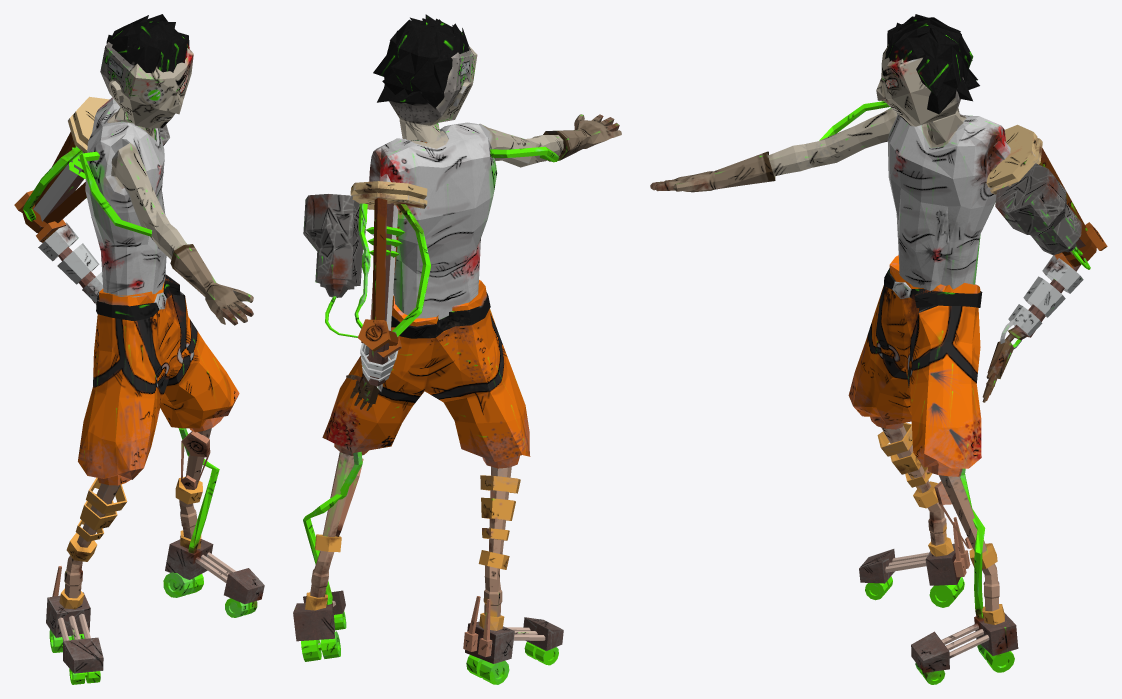
Rendered from CyborgFINALAnimation_000010.obj.
The picture shows the model from 3 angles, left to right: view 1: azimuth 30°, elevation 25°; view 2: azimuth 150°, elevation 25°; view 3: azimuth 270°, elevation 25°; orthographic projection. The views are drawn at different scales.
Parts seen in each view (by area): view 1: CyborgMesh_Cube.002; view 2: CyborgMesh_Cube.002; view 3: CyborgMesh_Cube.002.
Boxes of the visible parts, <box> form: CyborgMesh_Cube.002: <box>14,14,264,684</box>; CyborgMesh_Cube.002: <box>293,14,621,684</box>; CyborgMesh_Cube.002: <box>650,14,1107,684</box>.
Bounding box in the file's own units: 3.49 × 9.55 × 6.4.
